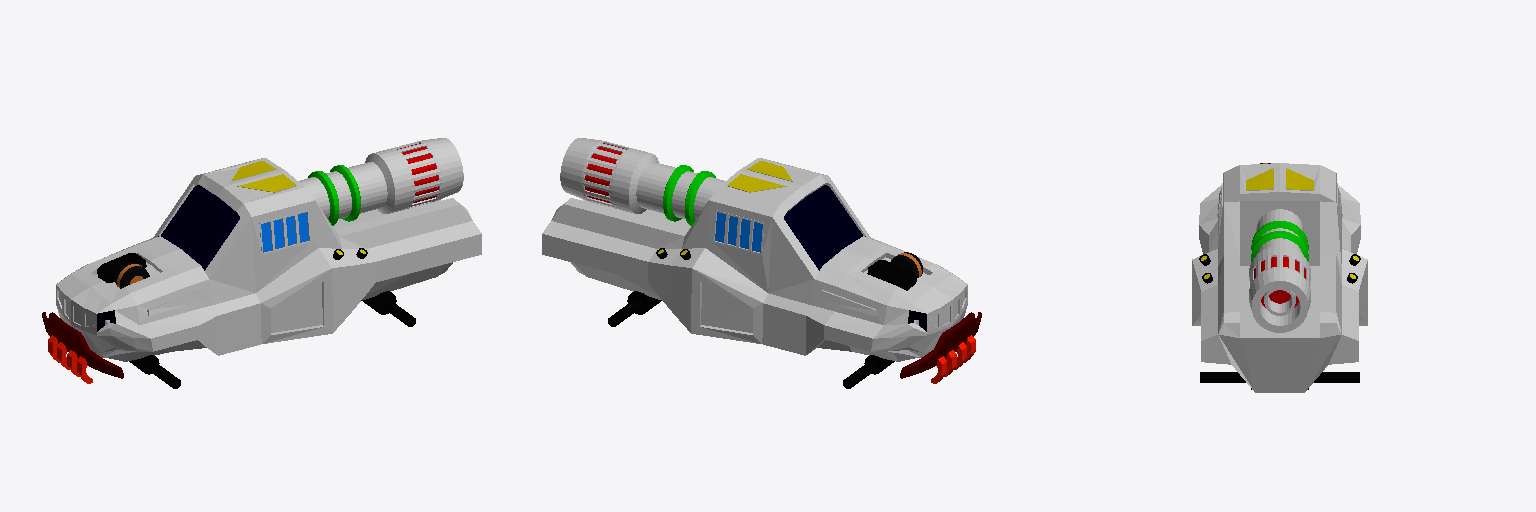
Rendered from Car6_Body.obj.
3 renders of one model, left to right at view 1: azimuth 30°, elevation 25°; view 2: azimuth 150°, elevation 25°; view 3: azimuth 270°, elevation 25°, orthographic.
Visible parts, largest first — view 1: back_body, turbo, Plane.003, back_axis, f_axis, engine, engine_wheel; view 2: back_body, turbo, Plane.003, engine, back_axis, f_axis; view 3: back_body, turbo, back_axis.
Boxes of the visible parts, x1,y1,x2,y2 form: back_body: [56, 158, 481, 361]; turbo: [299, 138, 463, 225]; Plane.003: [42, 312, 123, 378]; back_axis: [362, 291, 415, 326]; f_axis: [129, 355, 180, 388]; engine: [97, 253, 146, 282]; engine_wheel: [115, 263, 149, 288]; back_body: [542, 158, 967, 361]; turbo: [560, 138, 724, 225]; Plane.003: [900, 312, 981, 378]; engine: [867, 260, 916, 290]; back_axis: [608, 291, 661, 326]; f_axis: [843, 355, 894, 388]; back_body: [1192, 163, 1367, 392]; turbo: [1249, 209, 1310, 332]; back_axis: [1200, 372, 1359, 389].
Bounding box in the file's own units: 6.12 × 2.37 × 2.4.